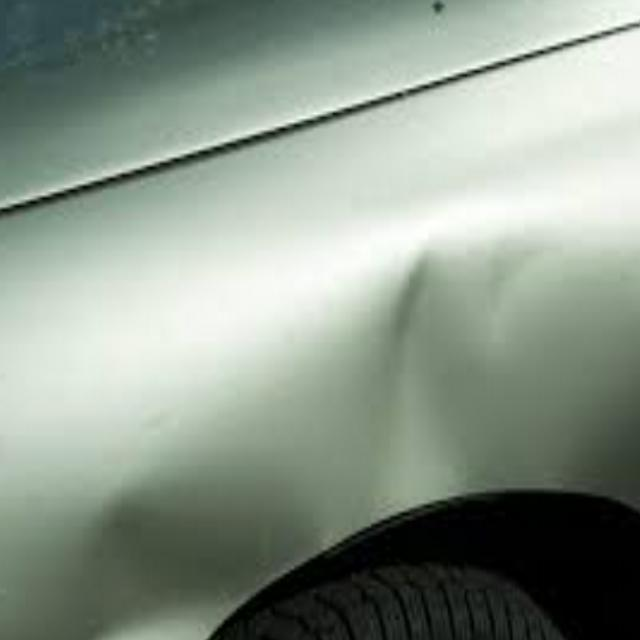dents: (74, 414, 245, 628), (485, 200, 562, 390), (384, 210, 457, 377)
